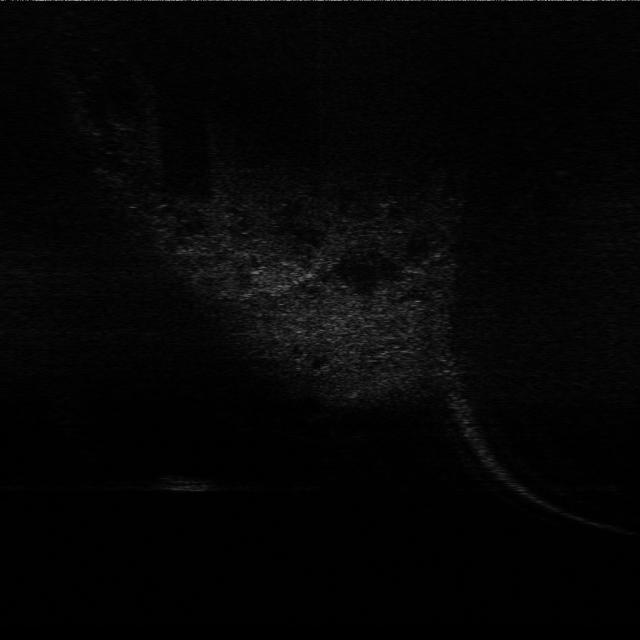square cage: (150, 470, 224, 498)
